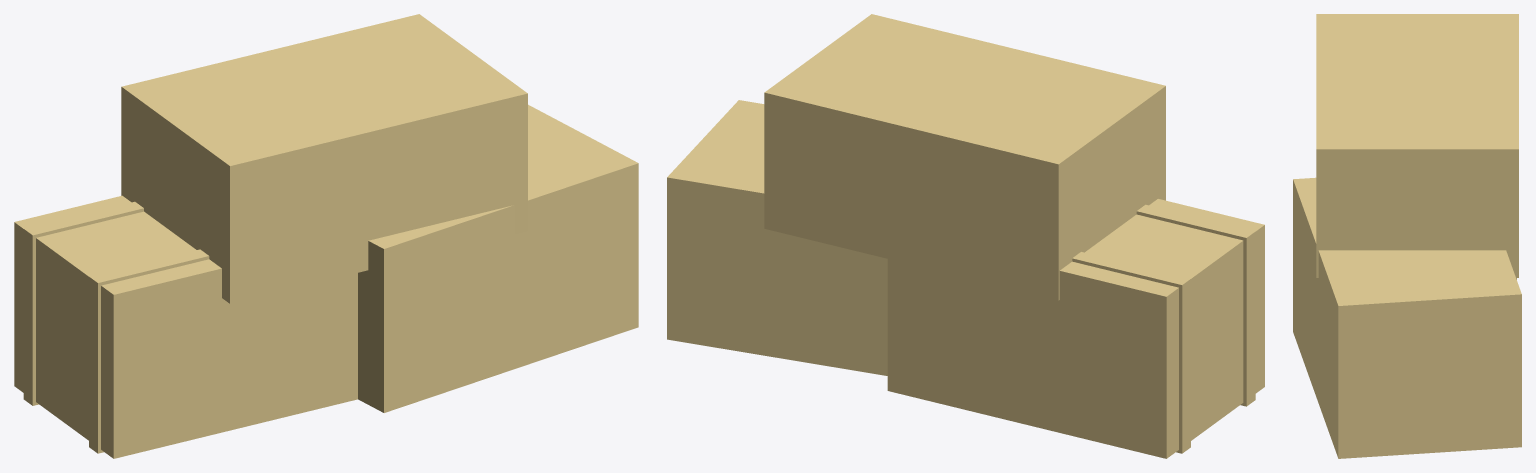
The model's file is HayBale.gltf.
3 views of the same model, side by side, from view 1: azimuth 30°, elevation 25°; view 2: azimuth 150°, elevation 25°; view 3: azimuth 270°, elevation 25° (orthographic). The views are drawn at different scales.
Parts seen in each view (by area): view 1: HayBale; view 2: HayBale; view 3: HayBale.
Part boxes in pixels (x1,y1,x2,y2): HayBale: [14, 14, 638, 458]; HayBale: [667, 14, 1264, 458]; HayBale: [1293, 14, 1521, 458].
Bounding box in the file's own units: 1.7 × 0.84 × 0.6783.
